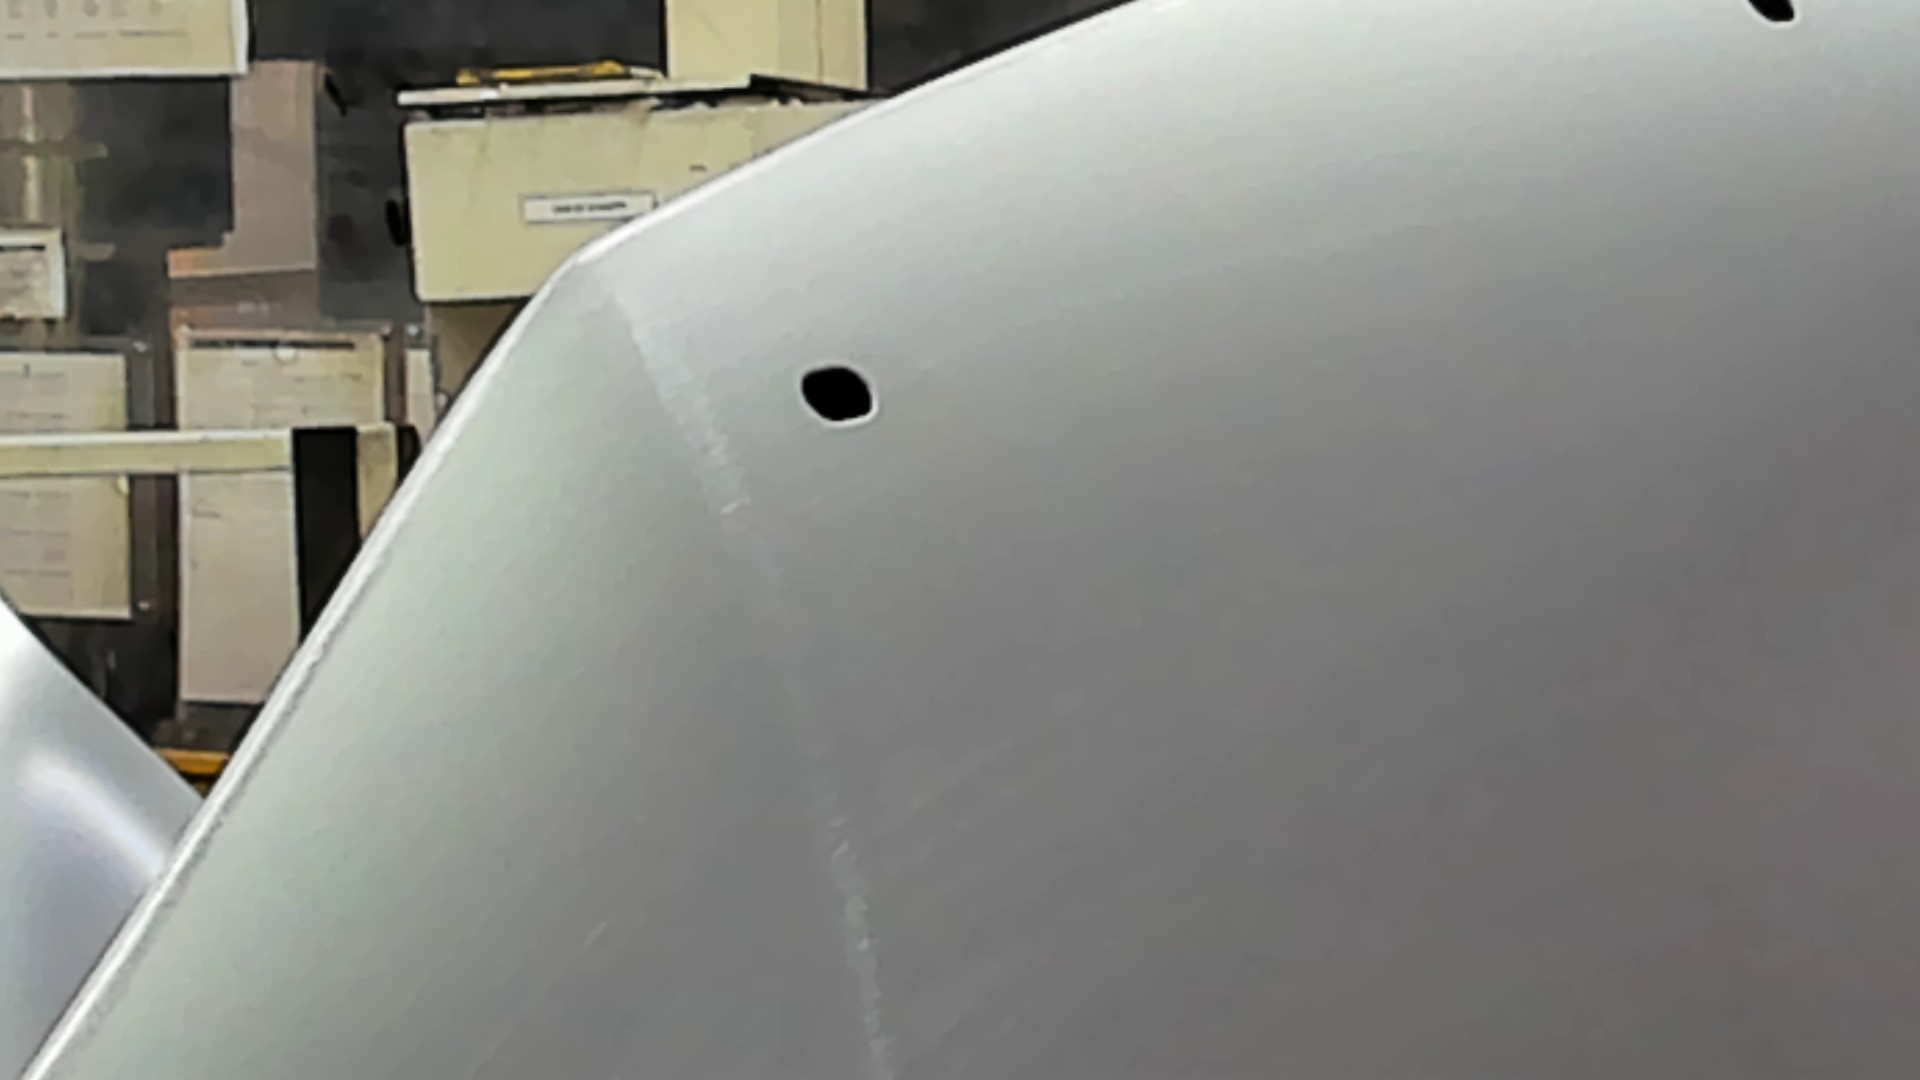amorfo: (795, 360, 886, 429), (1741, 1, 1803, 26)
capo: (947, 113, 1920, 1080)
